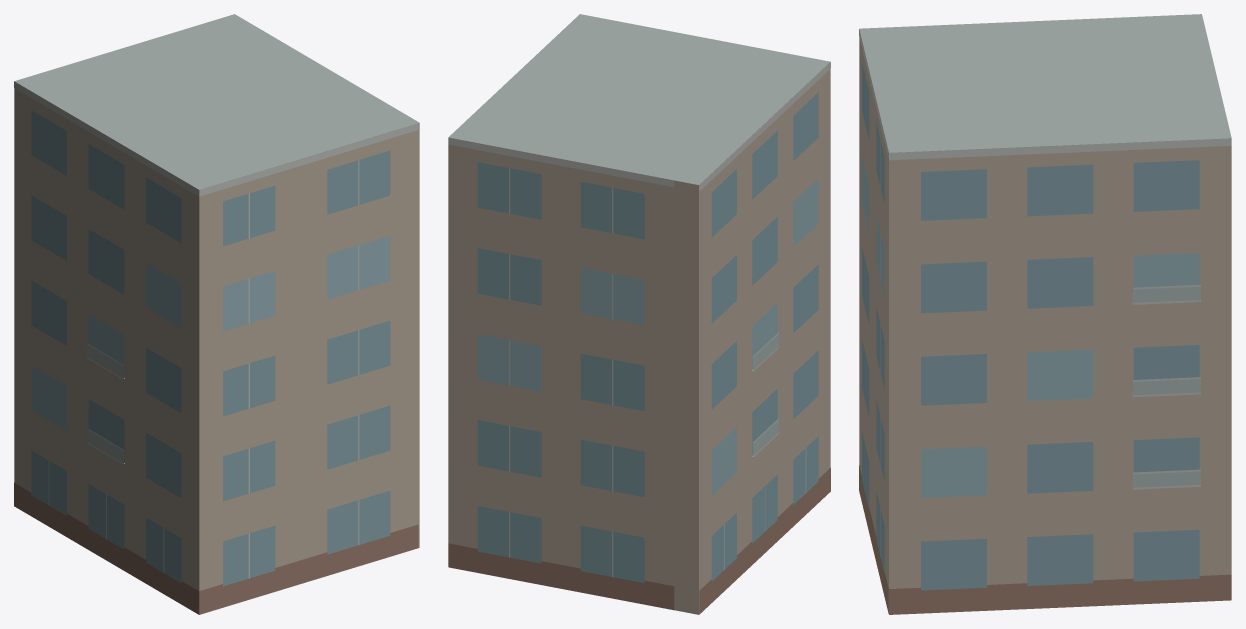
File: survey-upis-32620412.glb
3 renders of one model, left to right at view 1: azimuth 30°, elevation 25°; view 2: azimuth 150°, elevation 25°; view 3: azimuth 270°, elevation 25°, orthographic. The views are drawn at different scales.
Parts seen in each view (by area): view 1: survey-upis-32620412.tmp; view 2: survey-upis-32620412.tmp; view 3: survey-upis-32620412.tmp.
Part boxes in pixels (x1=…): survey-upis-32620412.tmp: x1=14, y1=14, x2=419, y2=614; survey-upis-32620412.tmp: x1=448, y1=14, x2=830, y2=614; survey-upis-32620412.tmp: x1=859, y1=14, x2=1231, y2=614.
Bounding box in the file's own units: 9.74 × 15.1 × 11.05.
